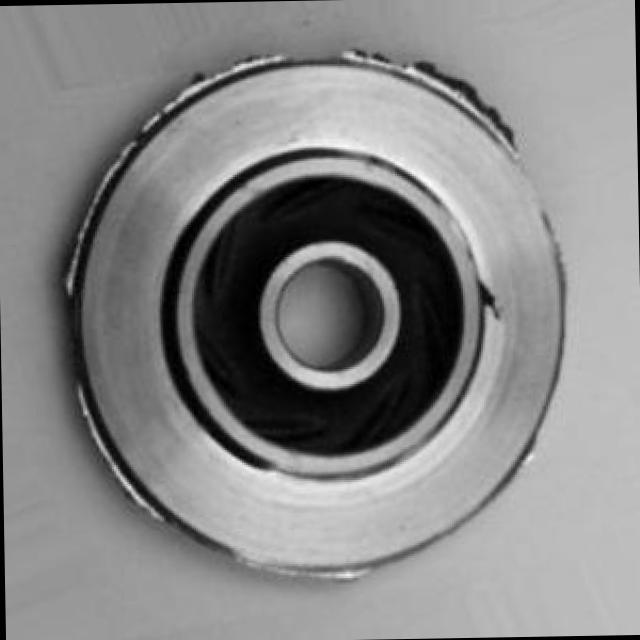Defect: (402, 52, 501, 113)
